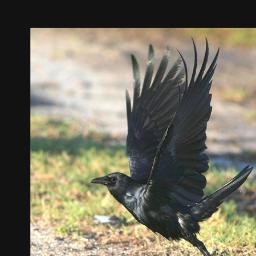Crow: (89, 34, 254, 256)
